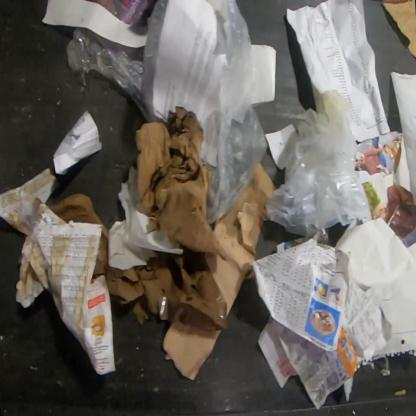cardboard: (135, 104, 214, 252), (205, 162, 276, 316), (162, 323, 221, 382)
soft_plastic: (199, 0, 269, 224), (268, 90, 366, 235), (66, 27, 150, 123), (141, 0, 170, 123), (92, 0, 159, 26)
